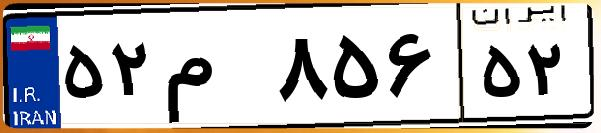2: (525, 38, 570, 115), (110, 28, 158, 98)
5: (330, 28, 385, 110), (57, 26, 110, 100), (475, 38, 525, 113)
6: (385, 28, 445, 110)
8: (270, 28, 330, 110)
م: (158, 20, 270, 120)
